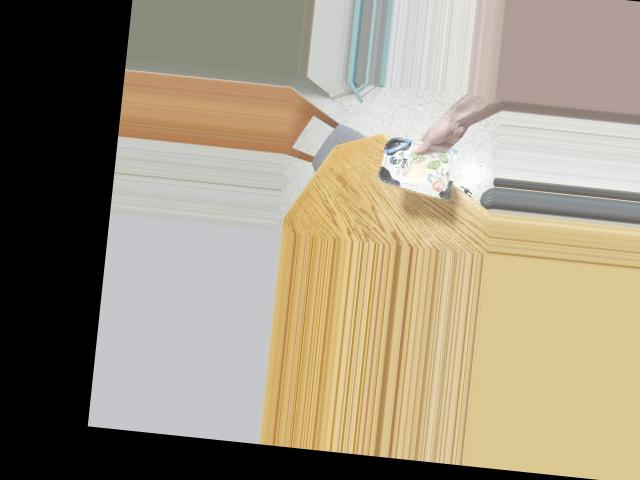cheese: (379, 126, 459, 201)
